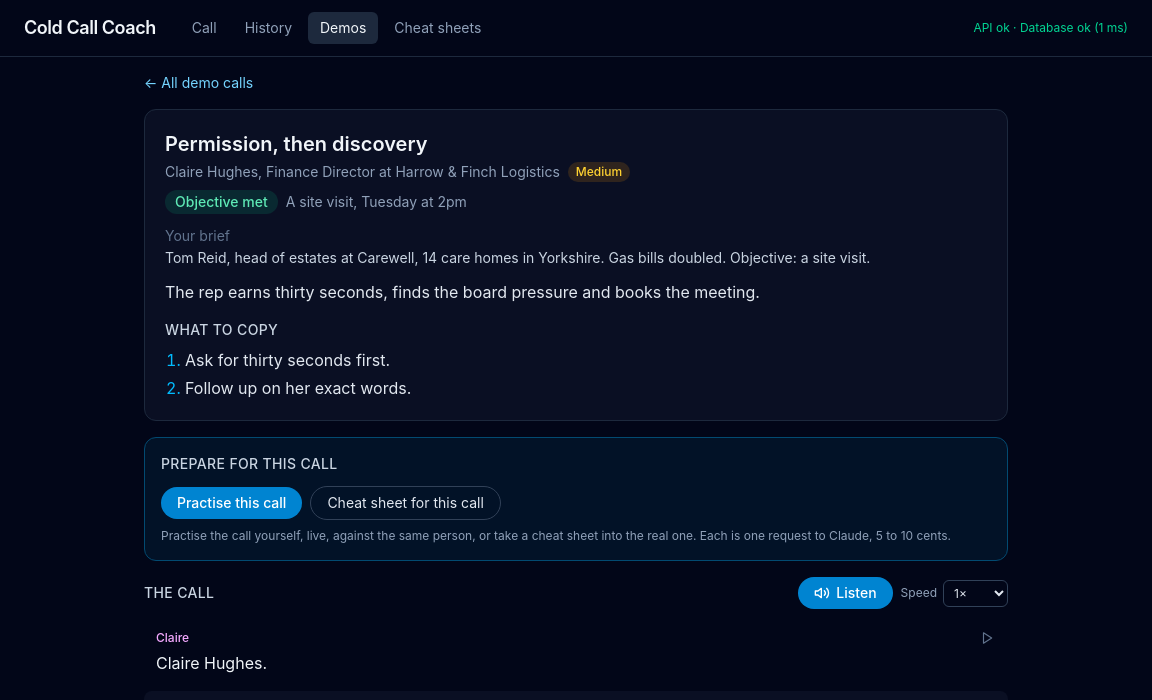
Test case: DemoPage › preparing for the call in a brief › says why practising failed, and lets the rep try again
The image size is (1152, 700).
Click the button "Practise this call": (232, 503) [161, 487, 302, 519]
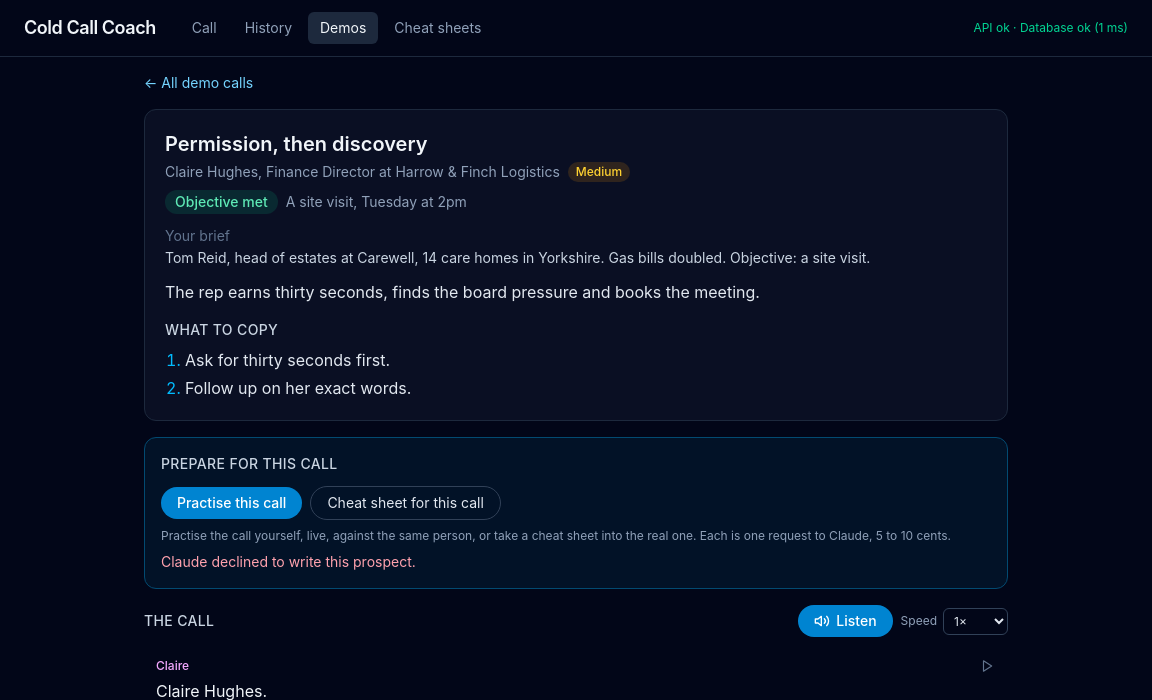
Now the message "Claude declined to write this prospect." is shown, box [161, 553, 416, 570]
